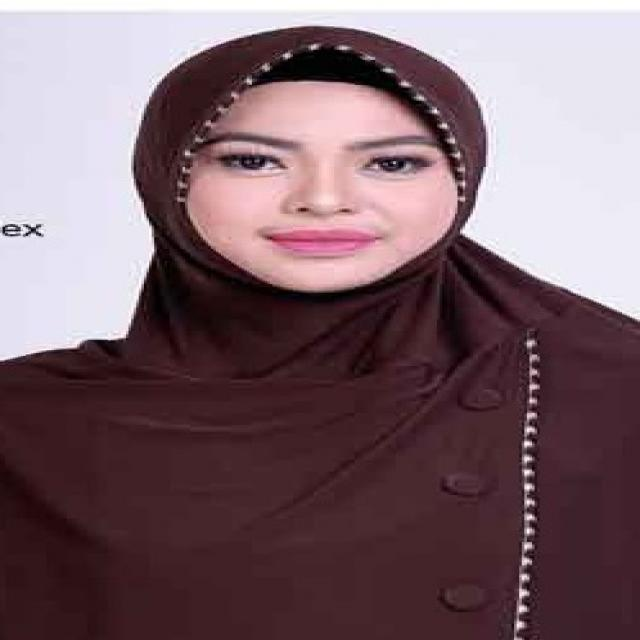head: (130, 17, 505, 303)
